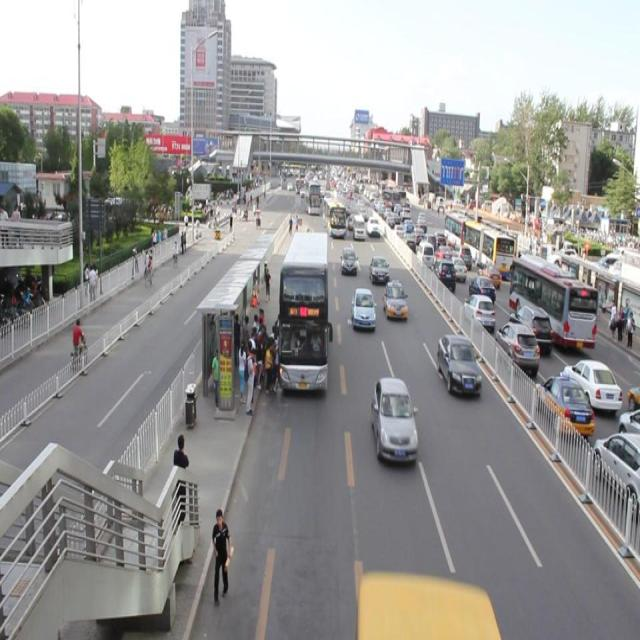car: (371, 375, 417, 462), (438, 335, 479, 395), (352, 286, 375, 331), (382, 280, 406, 320), (340, 246, 356, 278), (369, 256, 387, 284), (366, 217, 380, 238), (347, 212, 354, 230)
truck: (352, 216, 364, 243)
van: (280, 231, 327, 395), (323, 196, 344, 234)
